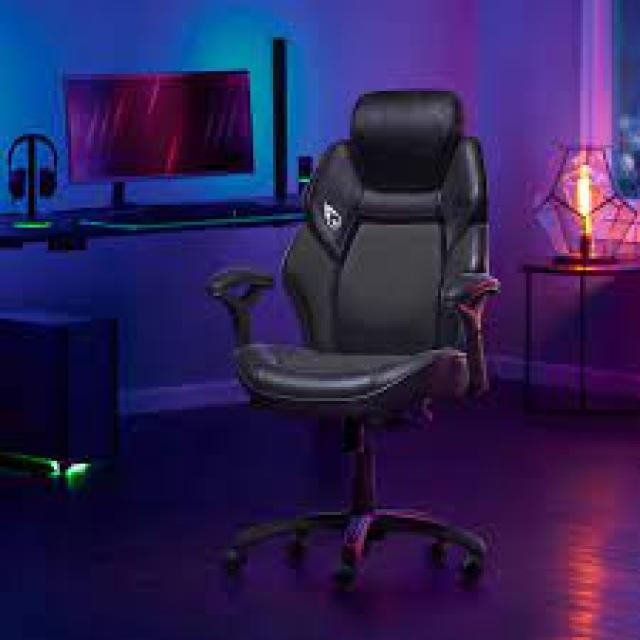chair: (169, 61, 527, 640)
